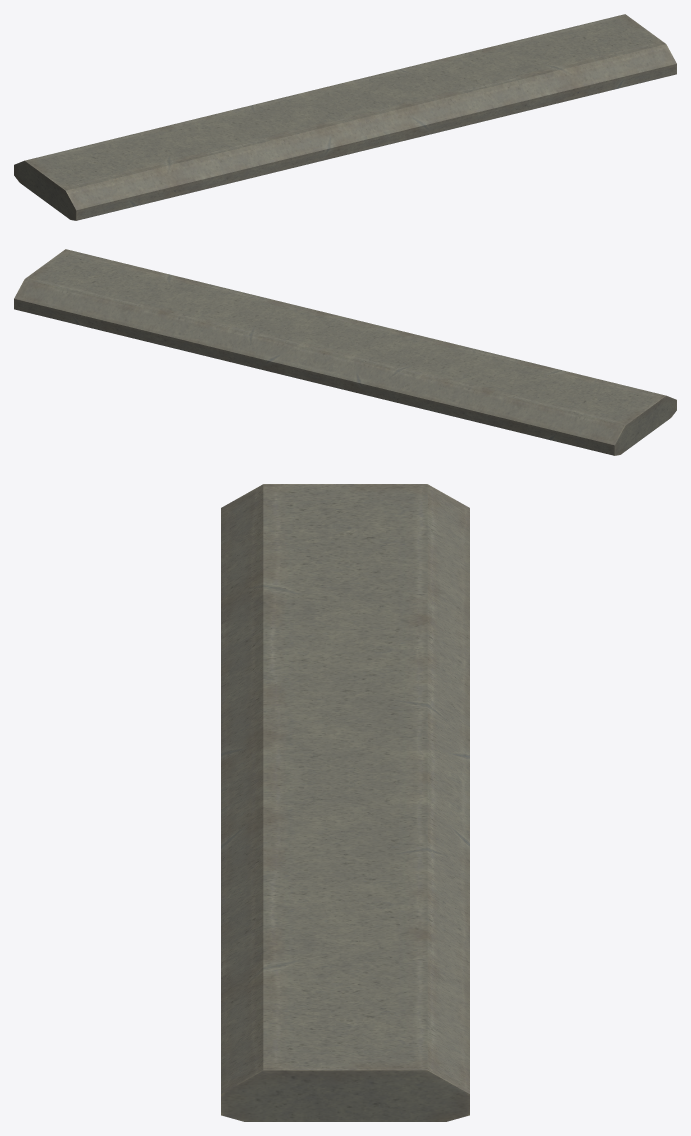
The model's file is AD_Frame_D_01.fbx.
3 renders of one model, top to bottom at view 1: azimuth 30°, elevation 25°; view 2: azimuth 150°, elevation 25°; view 3: azimuth 270°, elevation 25°, orthographic. The views are drawn at different scales.
Parts seen in each view (by area): view 1: AD_Frame_D_01; view 2: AD_Frame_D_01; view 3: AD_Frame_D_01.
Part boxes in pixels (box(x1,y1,x2,y2)): AD_Frame_D_01: box(14, 14, 676, 220); AD_Frame_D_01: box(14, 249, 676, 455); AD_Frame_D_01: box(221, 484, 469, 1121).
Bounding box in the file's own units: 1586 × 64.93 × 285.
Materials: 1 (1 with a texture image).
